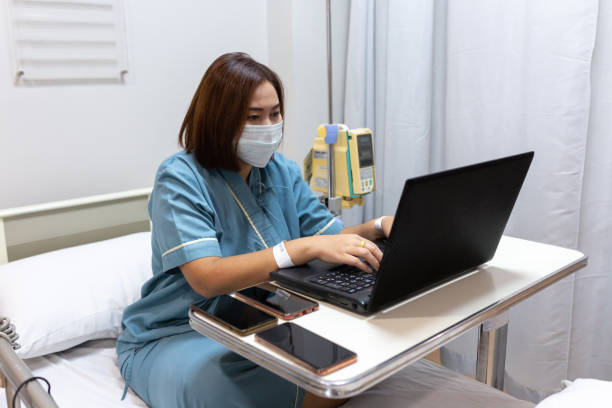computer: (270, 150, 536, 317)
hospital_bed: (1, 186, 612, 408)
infusion_pump: (307, 119, 386, 210)
overbed_table: (186, 231, 587, 408)
patient: (115, 52, 397, 408)
